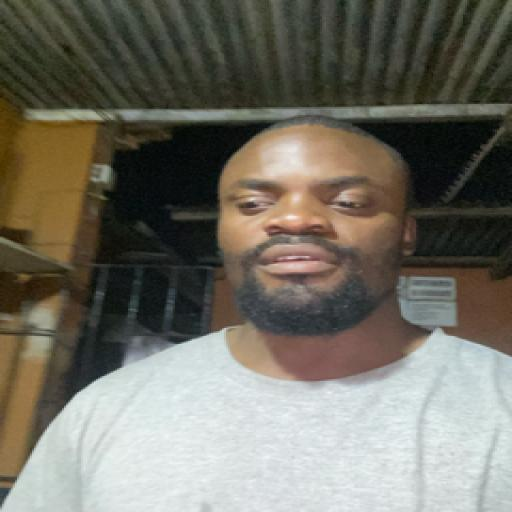JEANLUC: (226, 105, 431, 351)
